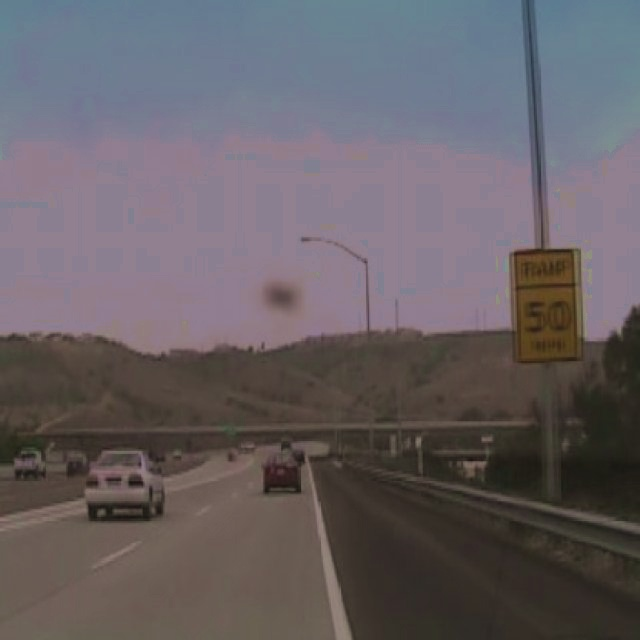rampSpeedAdvisory50: (506, 246, 585, 364)
